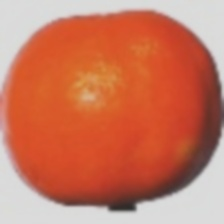tangerine: (16, 15, 190, 197)
